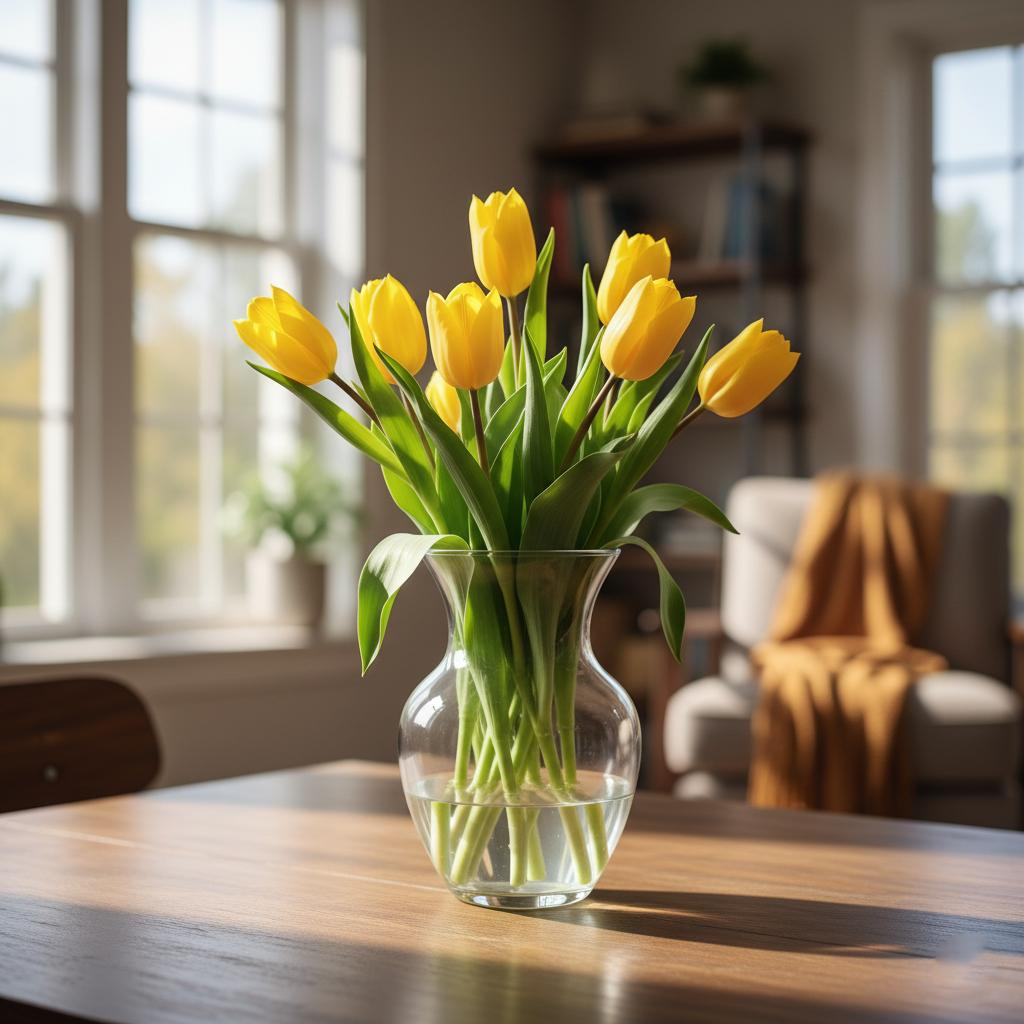tulip: (231, 184, 801, 910), (696, 317, 800, 419)
